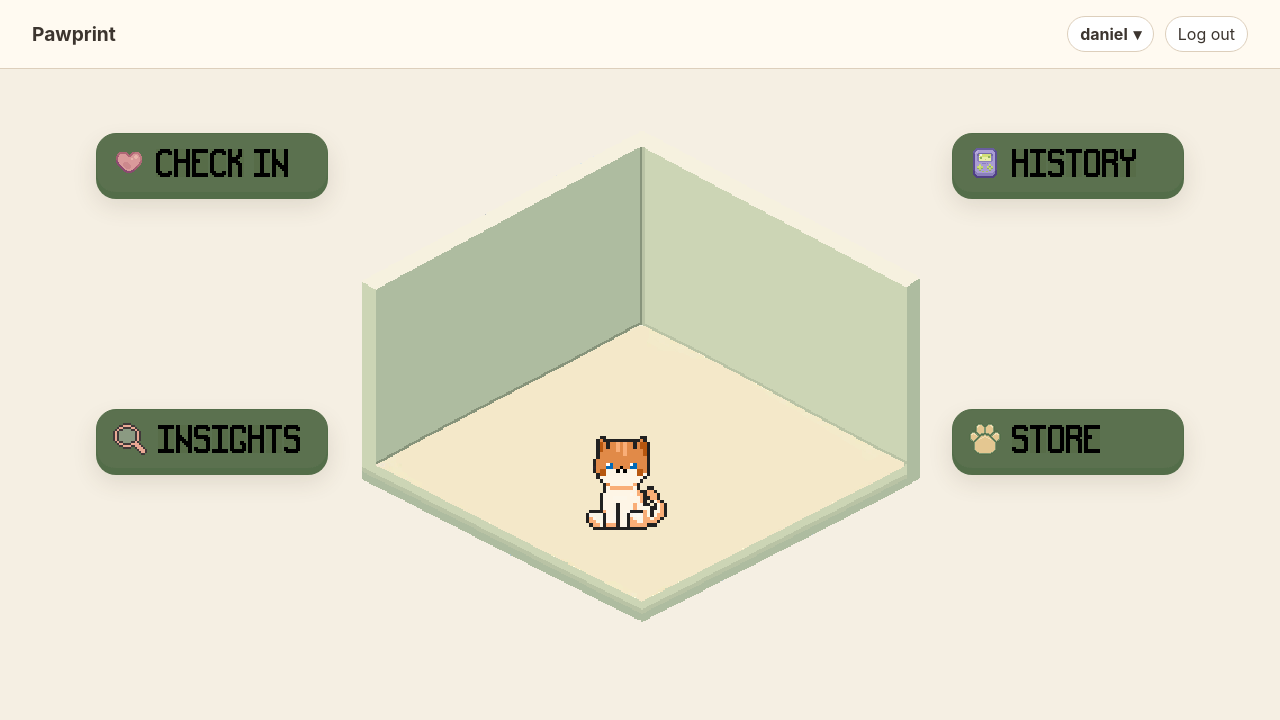
Test case: App › retains cat-name editing in Account and directs coat management to Store
The width and height of the screenshot is (1280, 720).
Expected: the picture named "Orange Mochi the cat resting" is shown, x1=586 y1=422 x2=694 y2=530
Click the button "daniel ▾".
click(1111, 34)  # box x1=1067 y1=16 x2=1154 y2=52
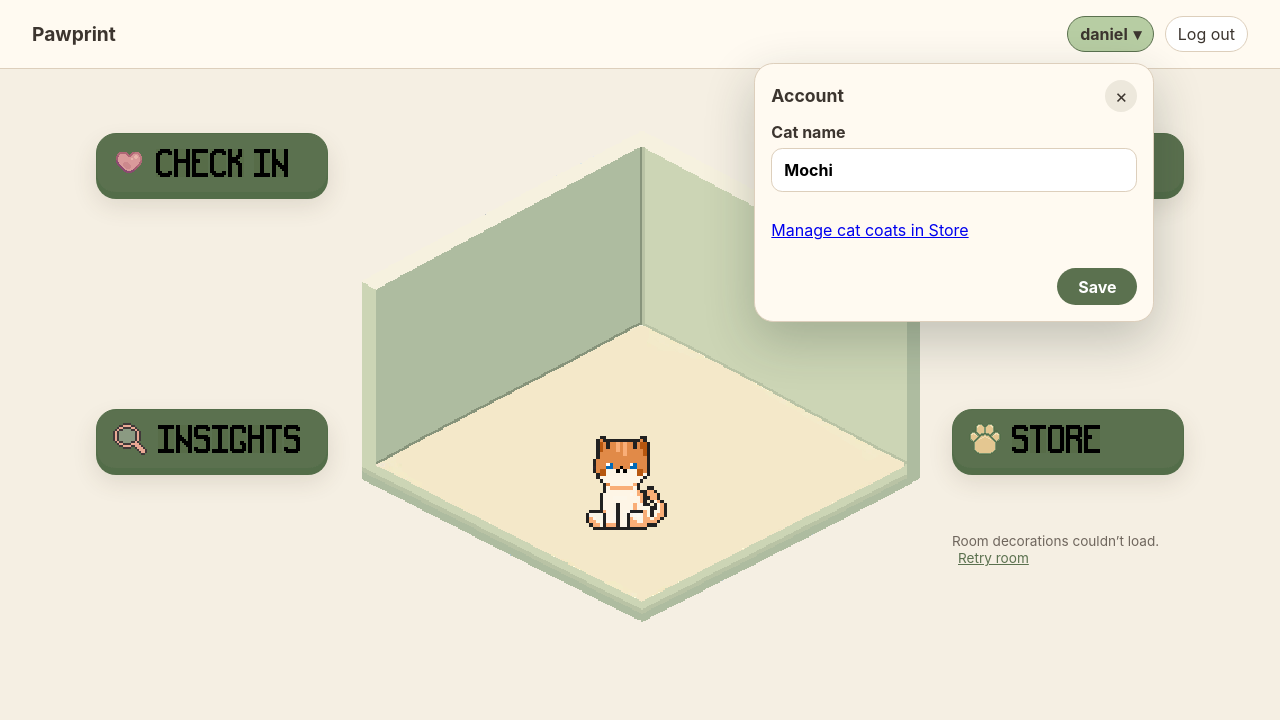
Press Escape
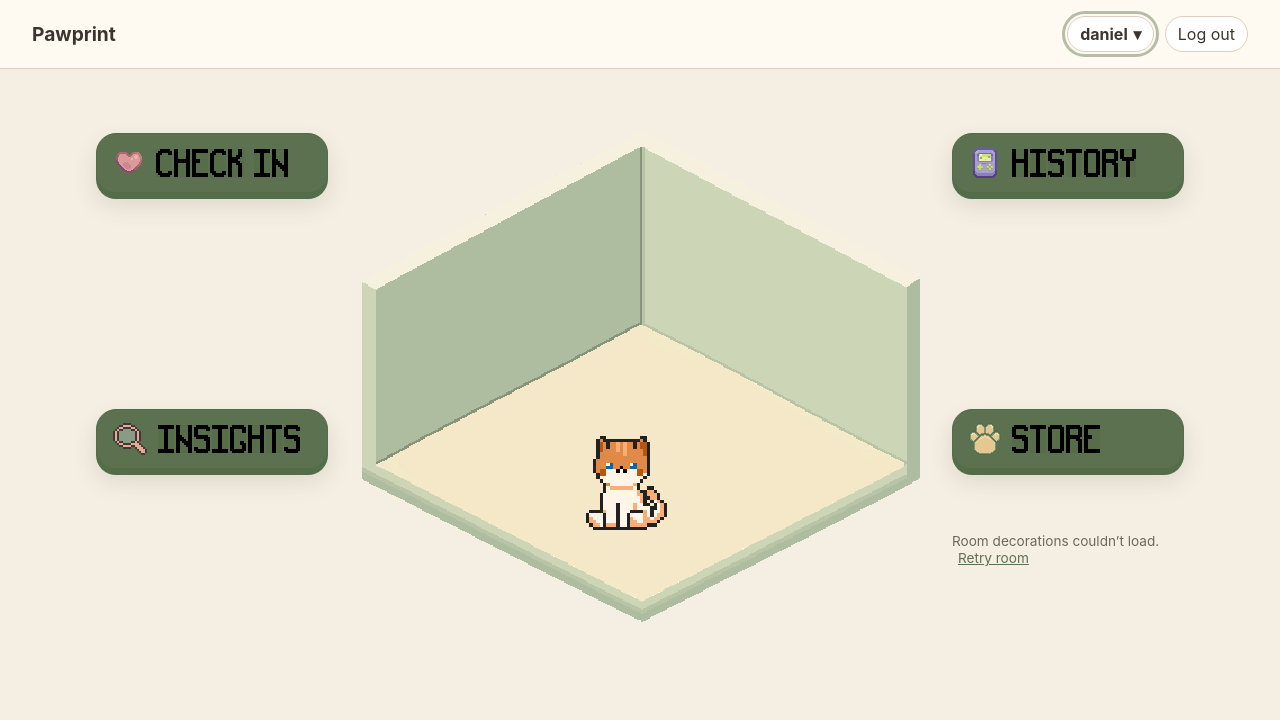
Result: the heading "Account" is gone
Click the button "daniel ▾".
click(1111, 34)  # box x1=1067 y1=16 x2=1154 y2=52
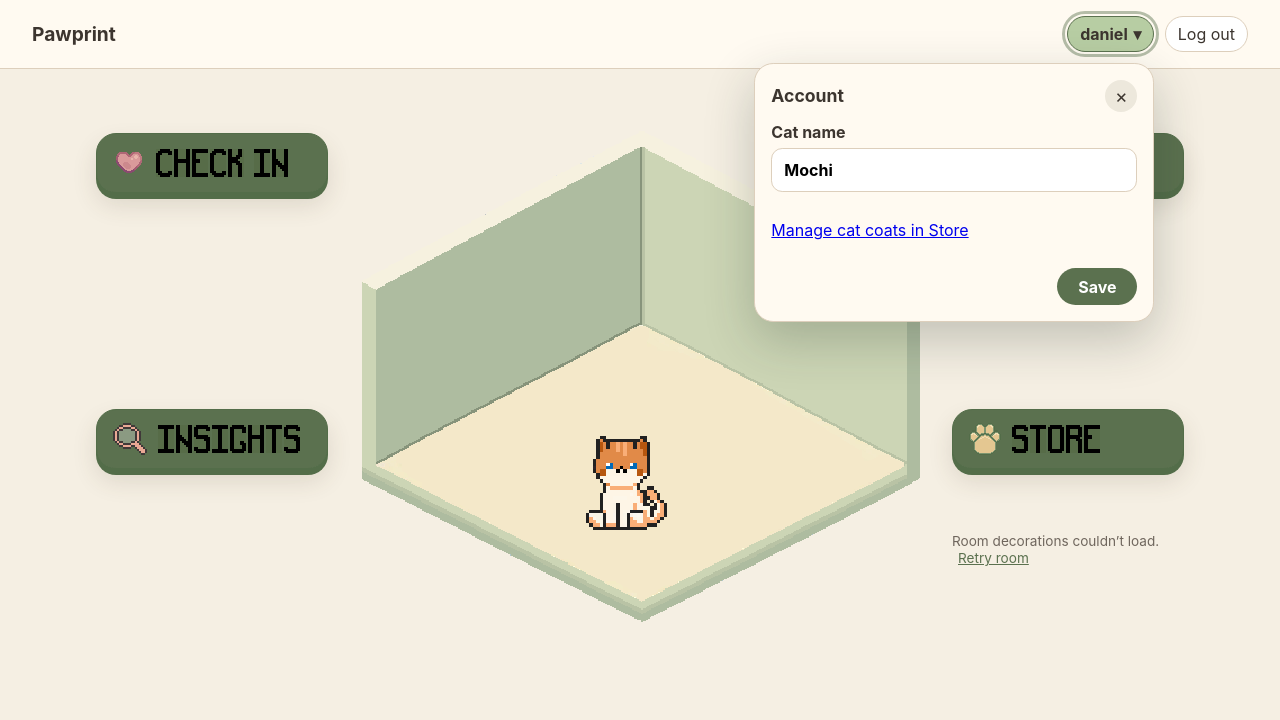
Replace the text in the field labelled "Cat name" with "Luna" at x=954, y=170, box x1=771 y1=148 x2=1137 y2=192
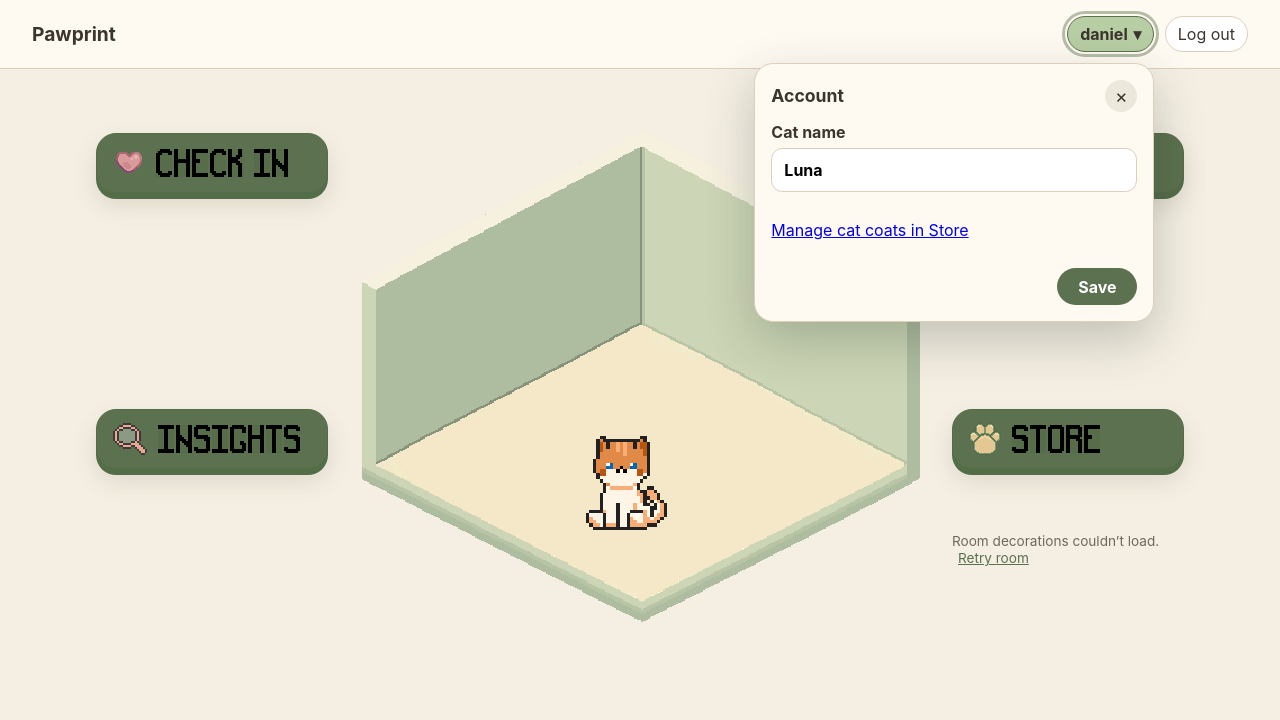
Click the button "Save".
click(1097, 287)  # box x1=1057 y1=268 x2=1137 y2=305
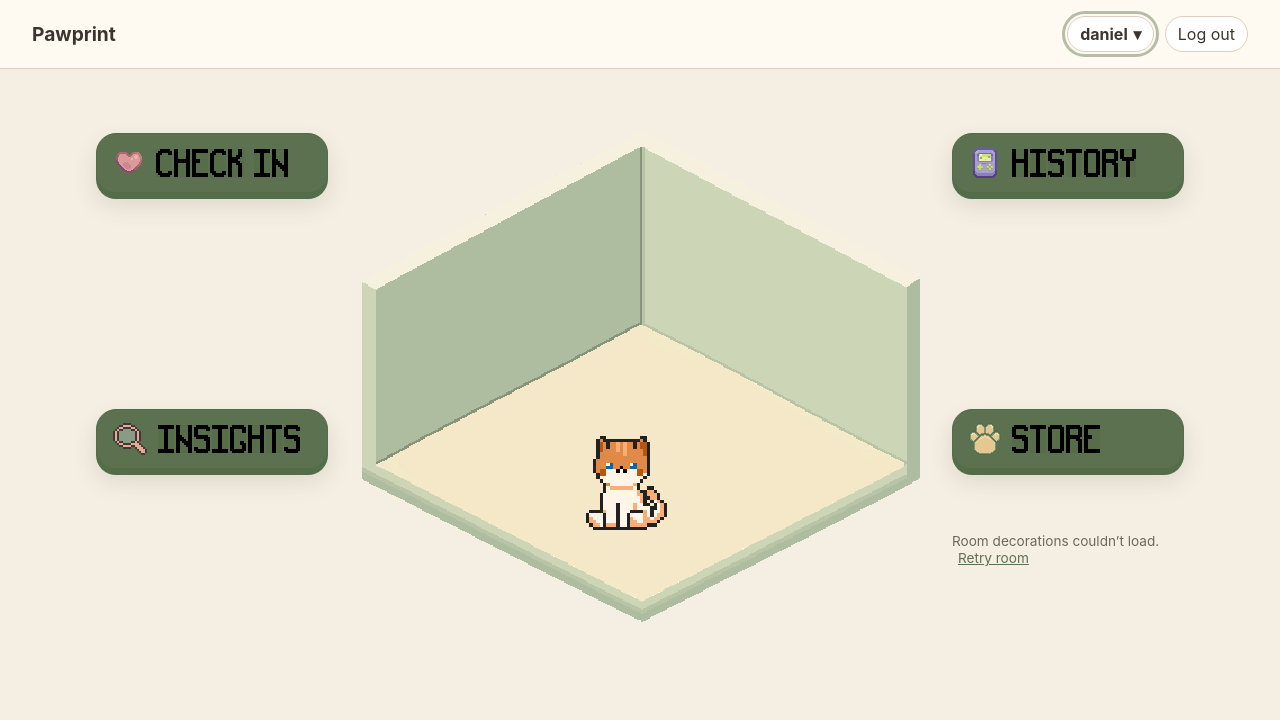
Result: the heading "Account" is gone
